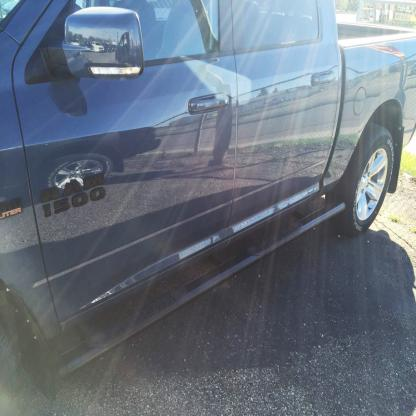Truck: (0, 0, 416, 401)
